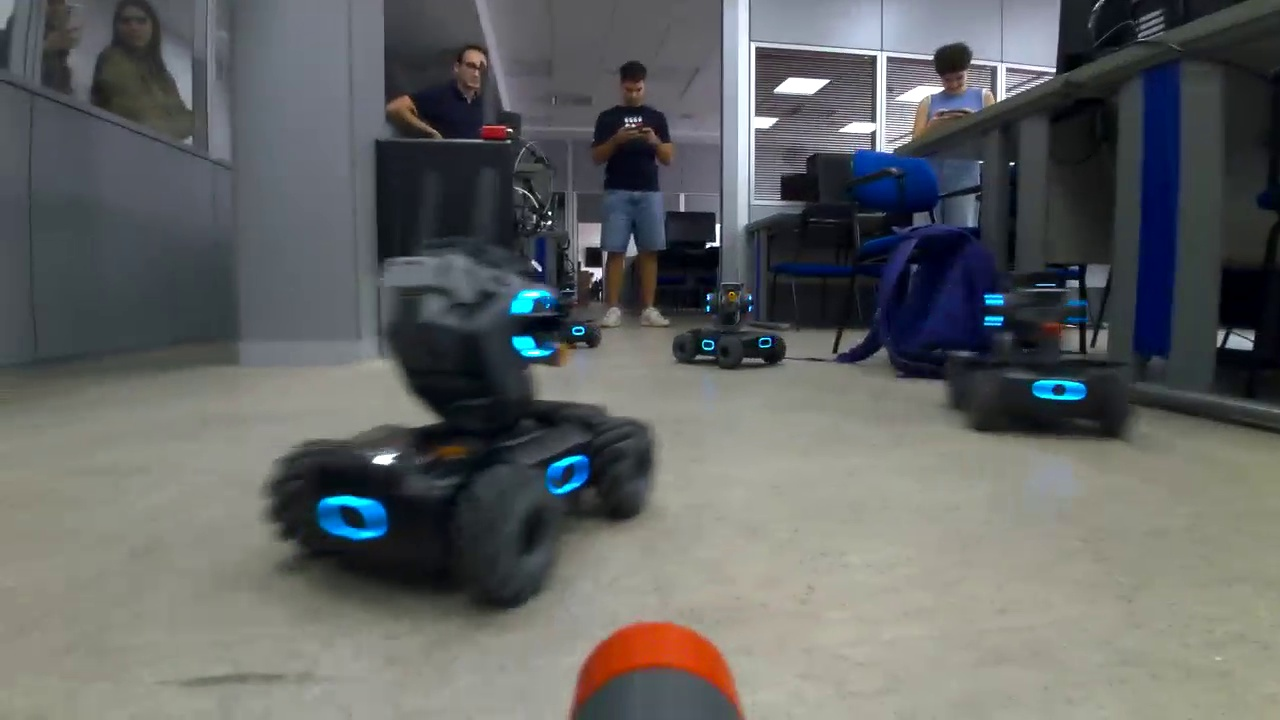robot: (259, 219, 661, 608), (928, 268, 1152, 445), (666, 277, 792, 378), (536, 286, 605, 359)
